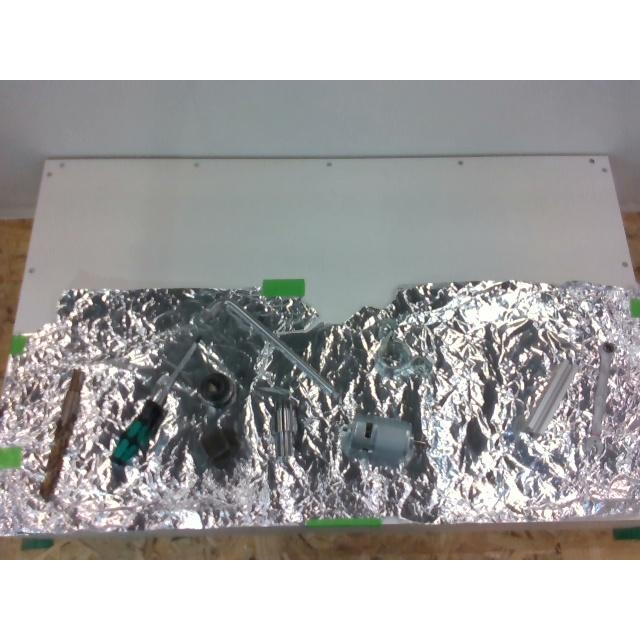AllenKey: (207, 296, 339, 399)
Axis2: (276, 398, 296, 458)
Bearing2: (188, 365, 236, 409)
Drill: (40, 368, 84, 499)
F20_20_G: (528, 360, 576, 436)
Housing: (373, 322, 431, 378)
Motor2: (340, 414, 424, 466)
Screwdriver: (111, 341, 197, 467)
Wrench: (582, 344, 618, 456)
